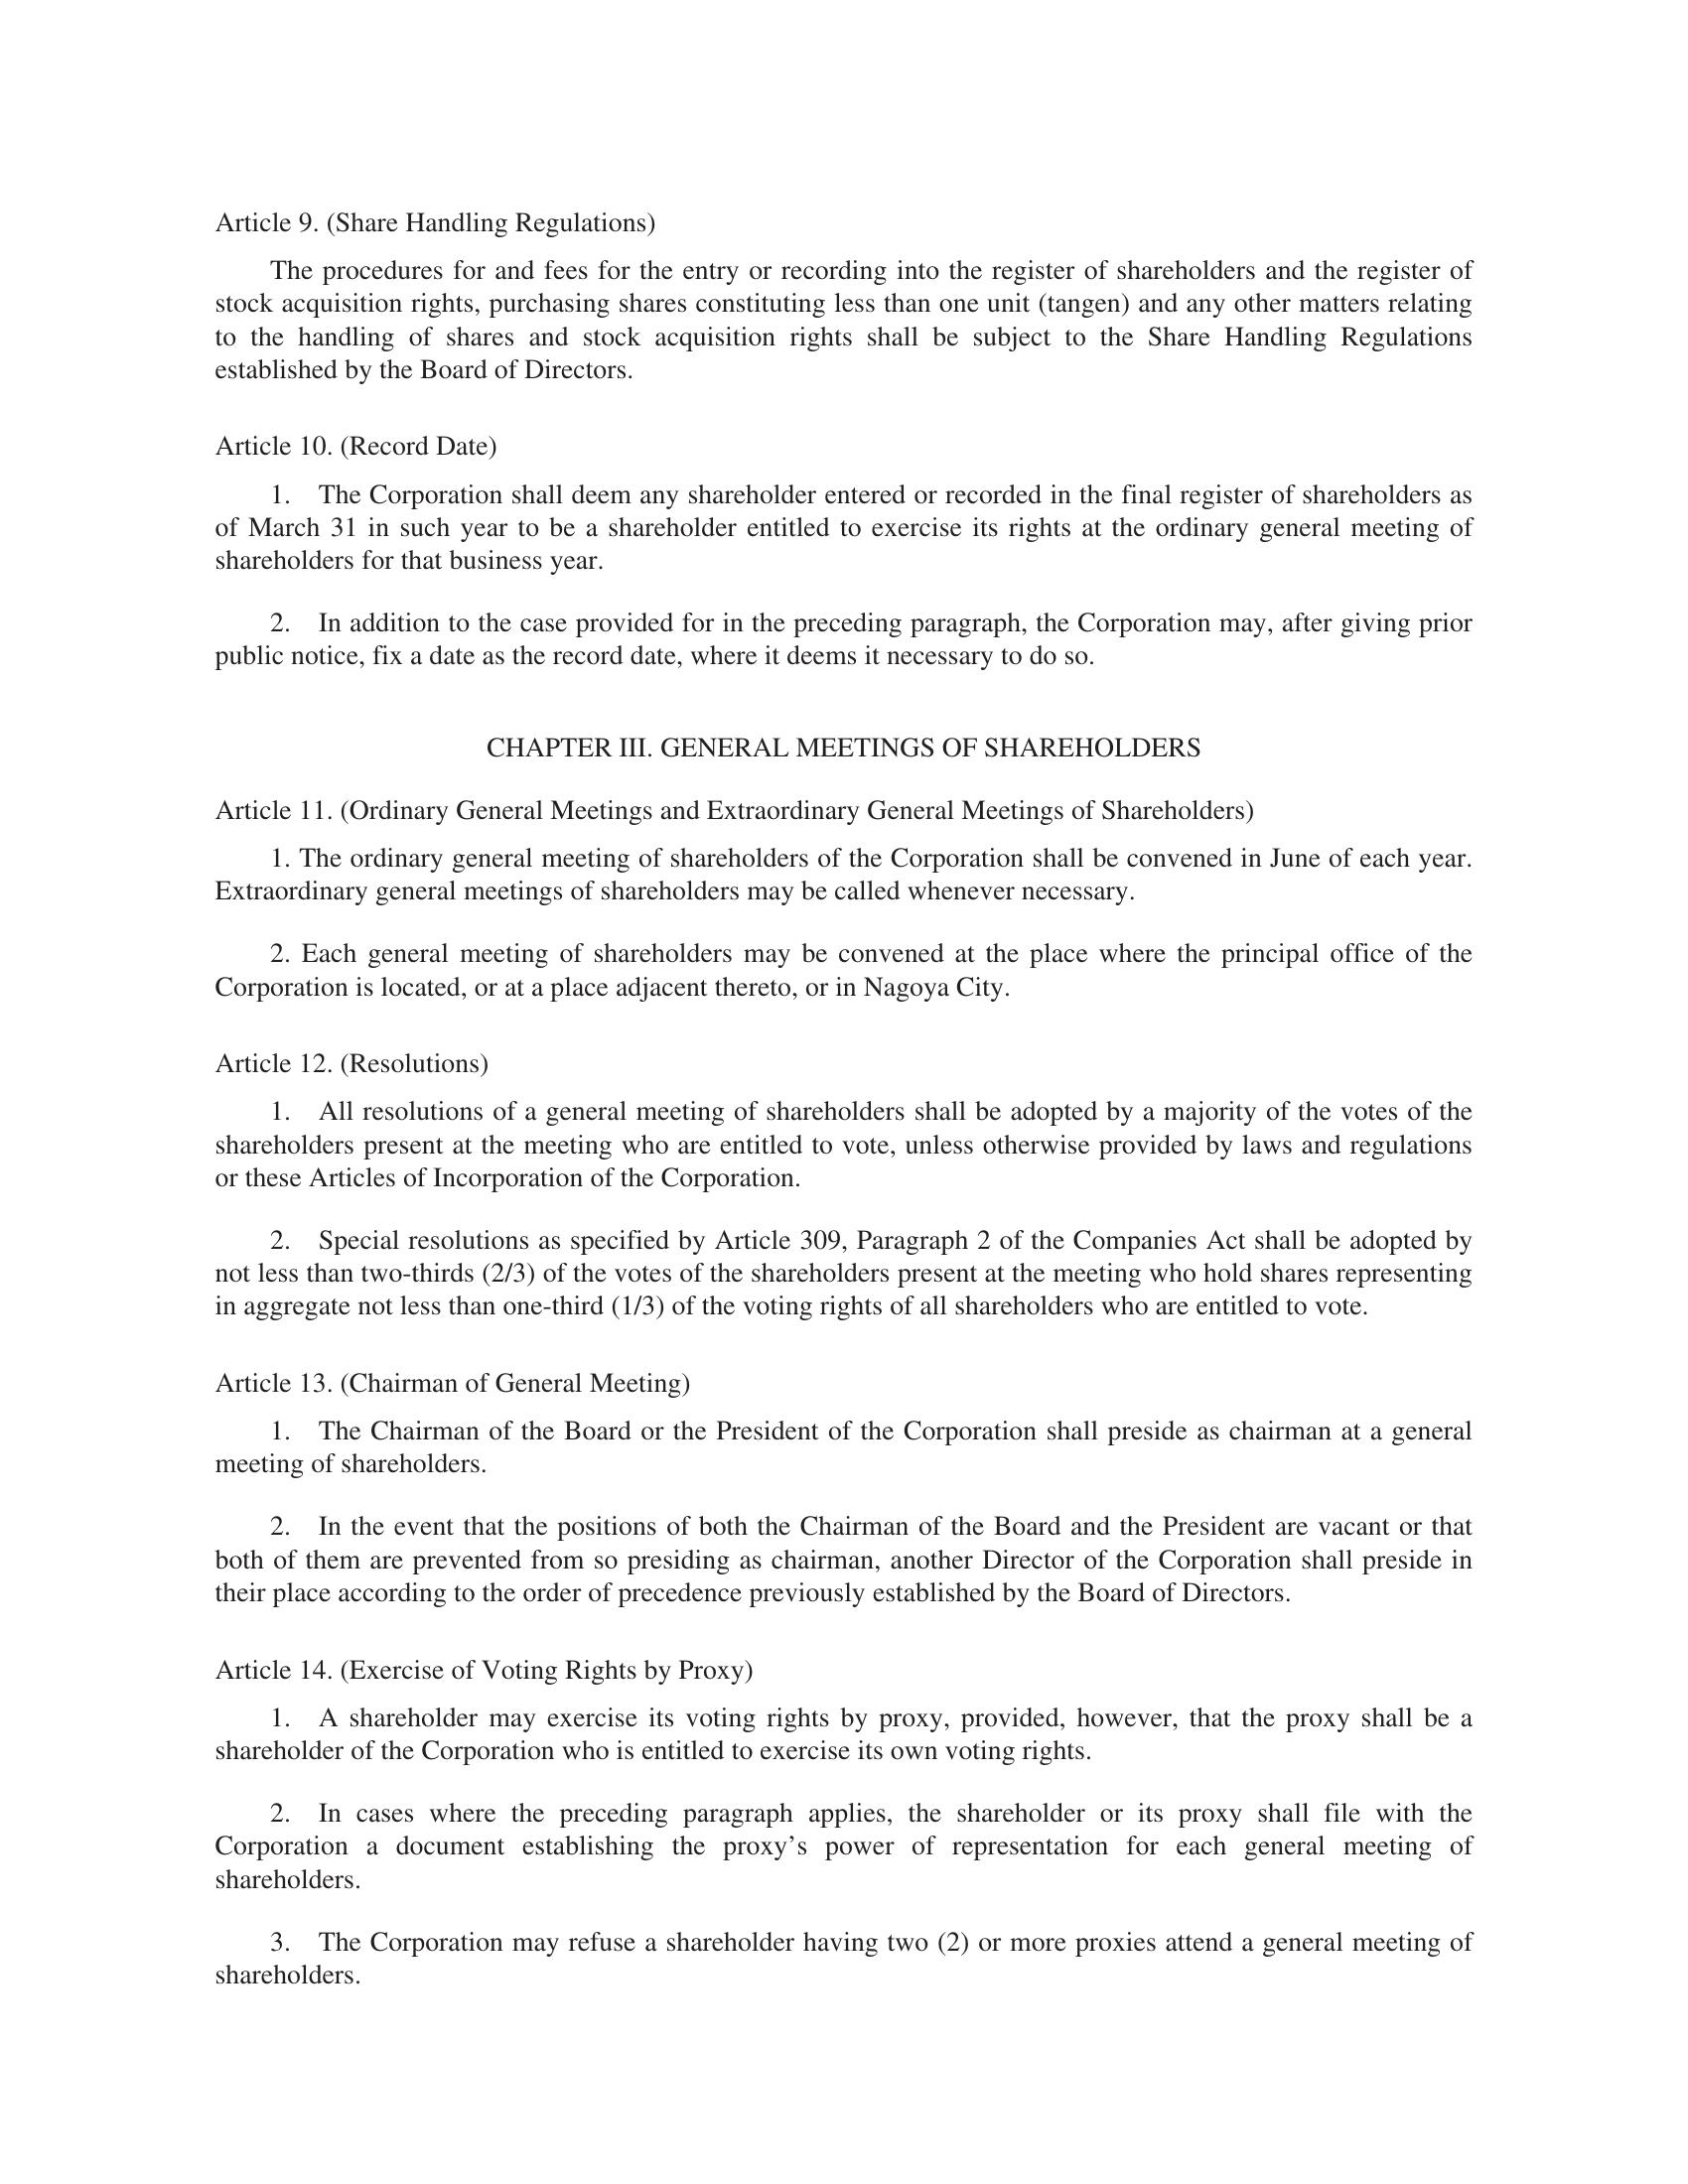Footer: (0, 2032, 1688, 2184)
Header: (0, 0, 1688, 179)
